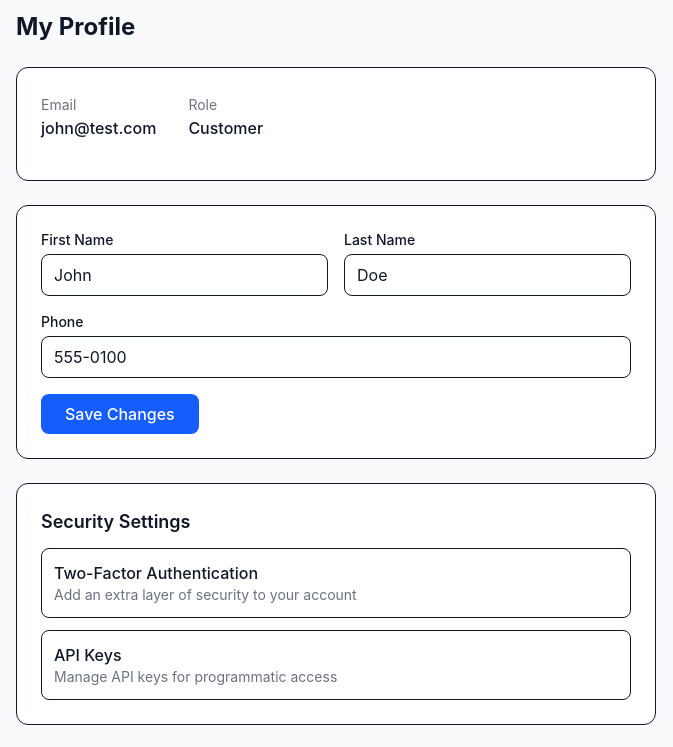
Test case: ProfilePage › should handle non-Error failure
Click the button "Save Changes" at (120, 414), box [41,394,199,434]
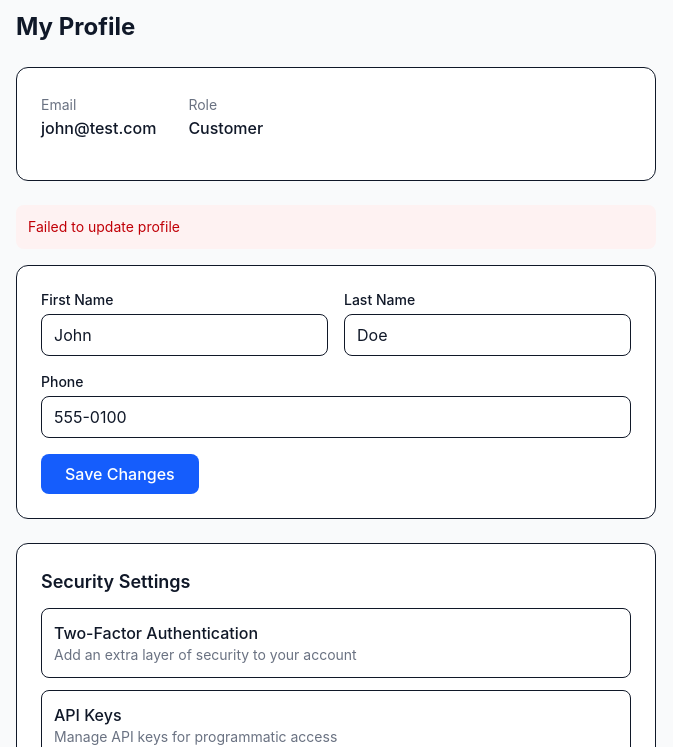
expect the message reads "Failed to update profile": met, box [28,218,180,235]
